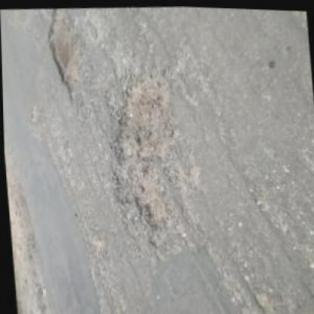Hueco: (98, 71, 184, 249), (43, 7, 87, 102)
